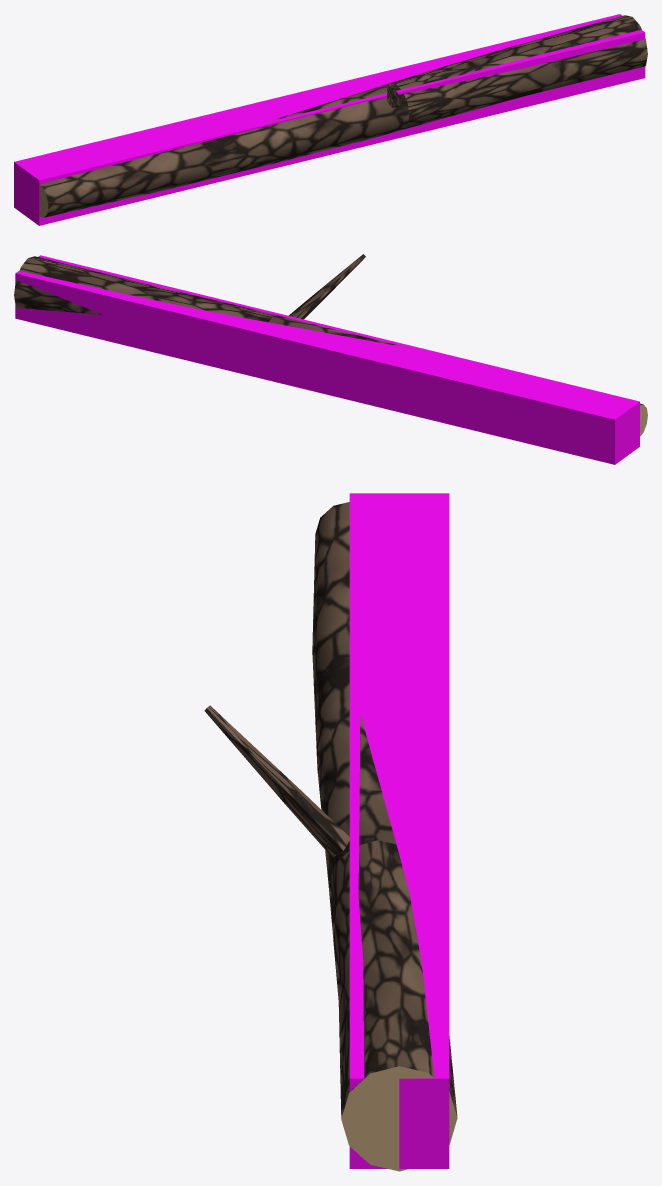
File: EN_Log_Fallen.fbx
3 views of the same model, one above another, from view 1: azimuth 30°, elevation 25°; view 2: azimuth 150°, elevation 25°; view 3: azimuth 270°, elevation 25° (orthographic). The views are drawn at different scales.
Parts seen in each view (by area): view 1: EN_Log_Fallen_LOD0, COL_Log; view 2: COL_Log, EN_Log_Fallen_LOD0; view 3: COL_Log, EN_Log_Fallen_LOD0.
Boxes of the visible parts, x1=… form: EN_Log_Fallen_LOD0: x1=39, y1=15, x2=647, y2=217; COL_Log: x1=14, y1=14, x2=645, y2=225; COL_Log: x1=15, y1=255, x2=639, y2=464; EN_Log_Fallen_LOD0: x1=14, y1=254, x2=647, y2=436; COL_Log: x1=349, y1=493, x2=449, y2=1168; EN_Log_Fallen_LOD0: x1=204, y1=502, x2=457, y2=1171.
Size of what is drawn, in the model's own units: 5.01 by 0.7345 by 0.9139.
